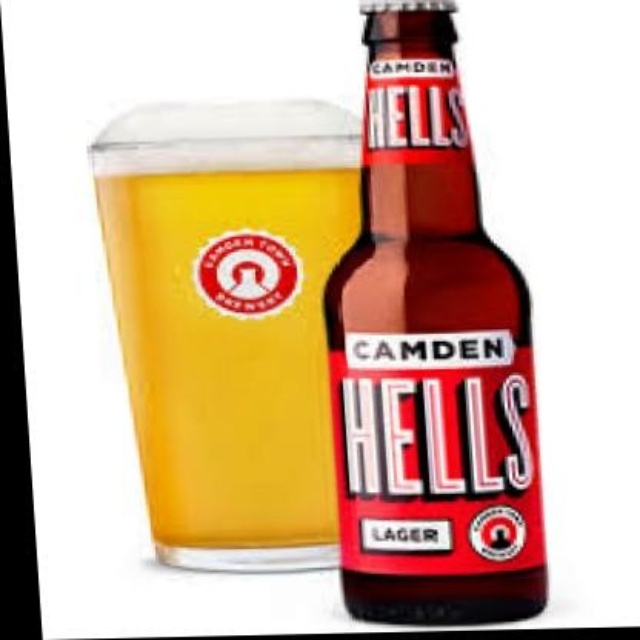trash: (325, 0, 546, 622), (91, 100, 358, 571)
